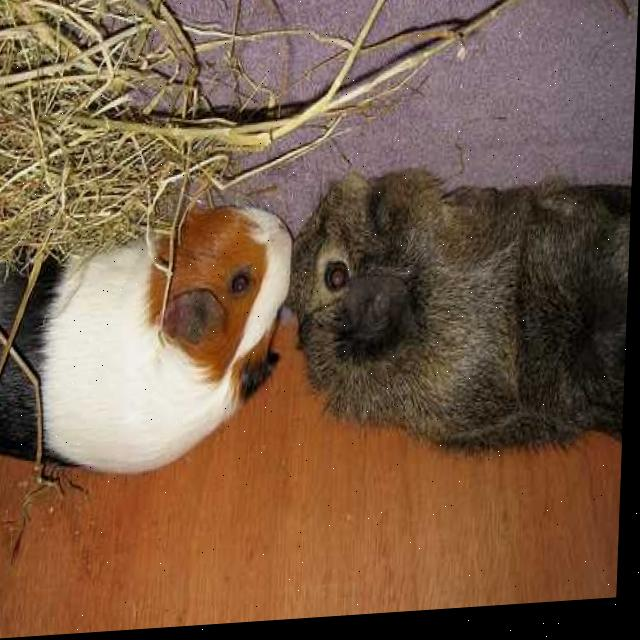guinea pig: (287, 168, 634, 472), (0, 203, 298, 489)
